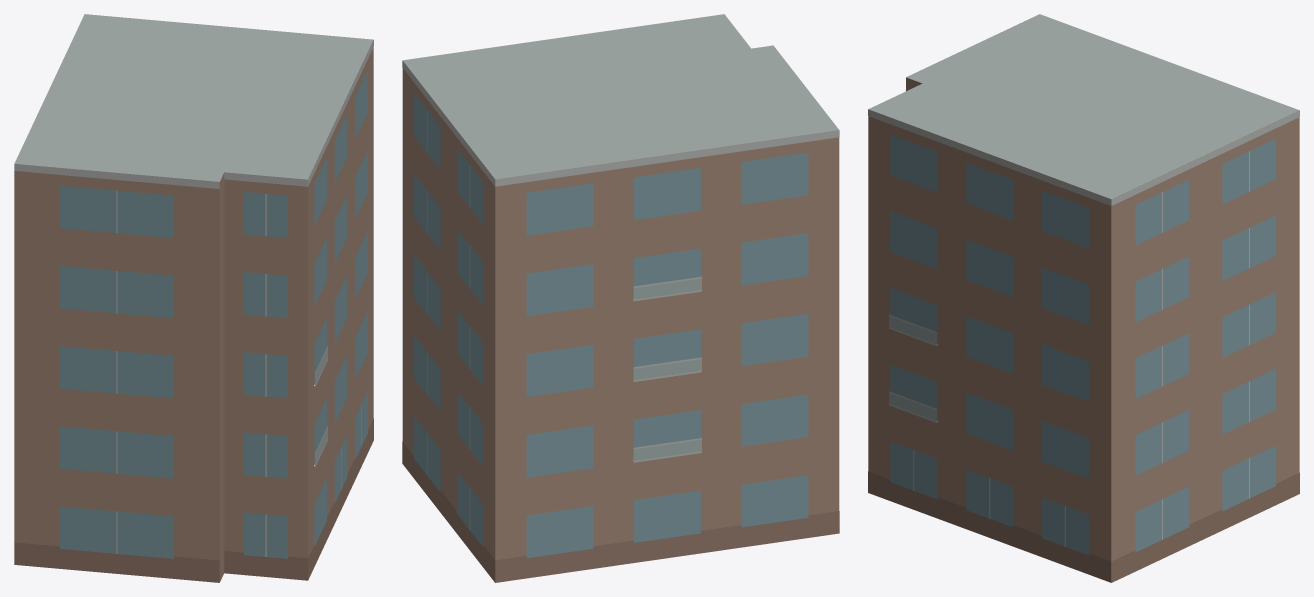
Rendered from survey-upis-32526099.glb.
3 views of the same model, side by side, from view 1: azimuth 30°, elevation 25°; view 2: azimuth 150°, elevation 25°; view 3: azimuth 270°, elevation 25° (orthographic). The views are drawn at different scales.
Parts seen in each view (by area): view 1: survey-upis-32526099.tmp; view 2: survey-upis-32526099.tmp; view 3: survey-upis-32526099.tmp.
Part boxes in pixels (x1,y1,x2,y2): survey-upis-32526099.tmp: (14, 14, 373, 582); survey-upis-32526099.tmp: (402, 14, 839, 582); survey-upis-32526099.tmp: (868, 14, 1299, 582).
Bounding box in the file's own units: 14.3 × 13.8 × 14.08.
